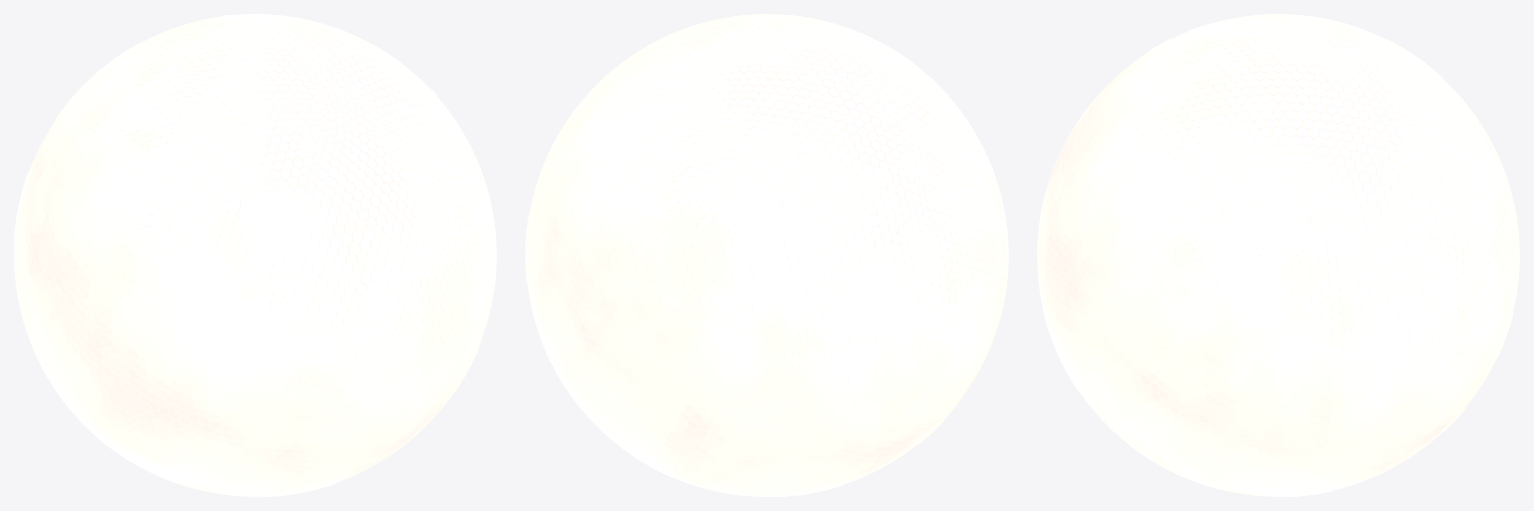
Rendered from star_red.glb.
The picture shows the model from 3 angles, left to right: view 1: azimuth 30°, elevation 25°; view 2: azimuth 150°, elevation 25°; view 3: azimuth 270°, elevation 25°; orthographic projection.
Visible parts, largest first — view 1: star_red; view 2: star_red; view 3: star_red.
Boxes of the visible parts, x1=… form: star_red: x1=14, y1=14, x2=496, y2=496; star_red: x1=525, y1=14, x2=1008, y2=496; star_red: x1=1037, y1=14, x2=1519, y2=496.
Bounding box in the file's own units: 2 × 2 × 2.
